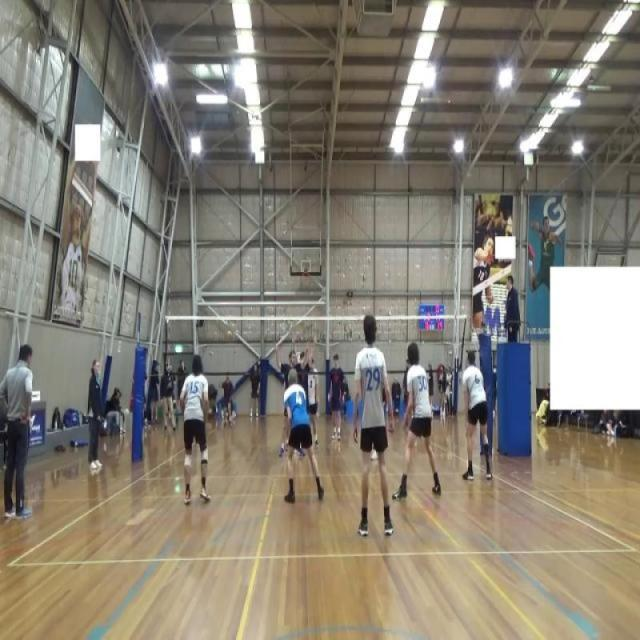volleyball: (226, 329, 234, 340)
